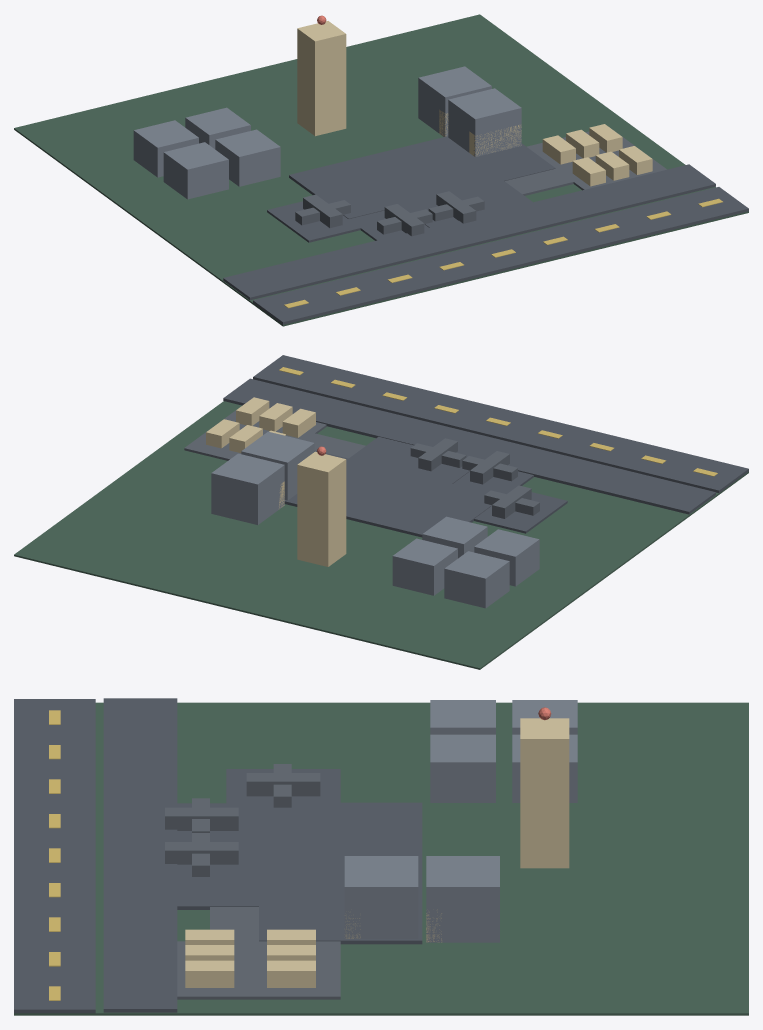
Rendered from stage_17.glb.
3 views of the same model, one above another, from view 1: azimuth 30°, elevation 25°; view 2: azimuth 150°, elevation 25°; view 3: azimuth 270°, elevation 25° (orthographic). The views are drawn at different scales.
Visible parts, largest first — view 1: geometry_0; view 2: geometry_0; view 3: geometry_0.
Part boxes in pixels (x1,y1,x2,y2): geometry_0: (14,14,748,326); geometry_0: (14,355,748,669); geometry_0: (14,698,748,1015).
Bounding box in the file's own units: 9 × 2.06 × 9.
